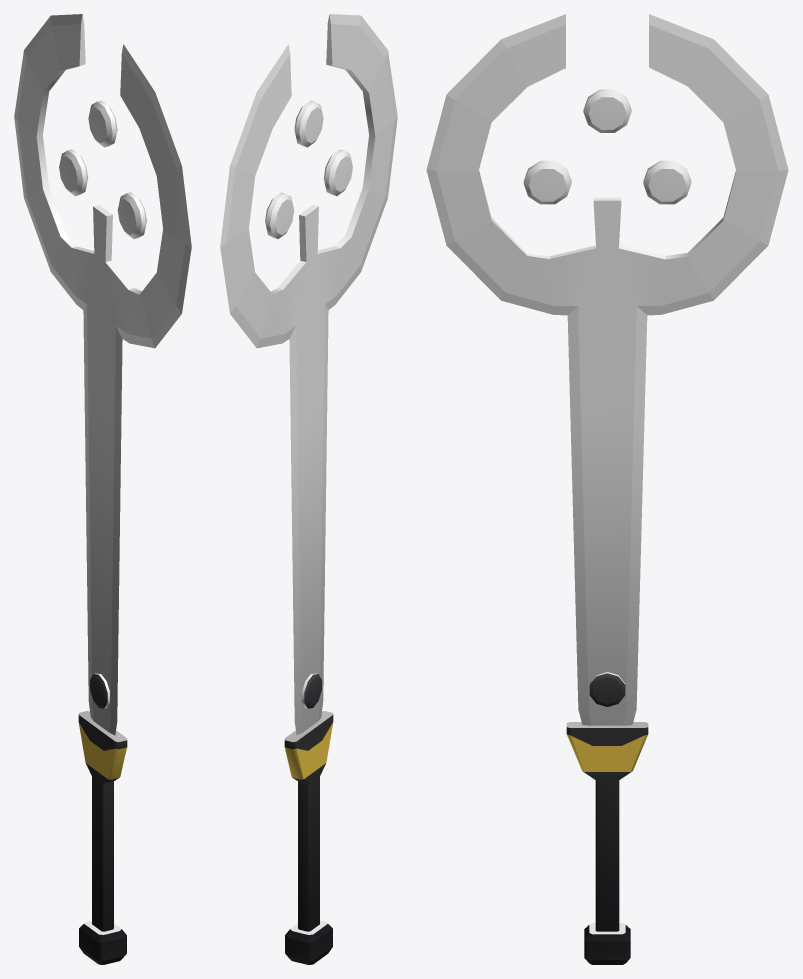
The model's file is Weapon_scepter.fbx.
3 renders of one model, left to right at view 1: azimuth 30°, elevation 25°; view 2: azimuth 150°, elevation 25°; view 3: azimuth 270°, elevation 25°, orthographic.
Parts seen in each view (by area): view 1: W_DG_3; view 2: W_DG_3; view 3: W_DG_3.
Part boxes in pixels (bbox=[...]): W_DG_3: bbox=[14, 14, 191, 964]; W_DG_3: bbox=[220, 14, 397, 964]; W_DG_3: bbox=[426, 14, 788, 964].
Size of the model in its own units: 4.01 by 122 by 42.38.
